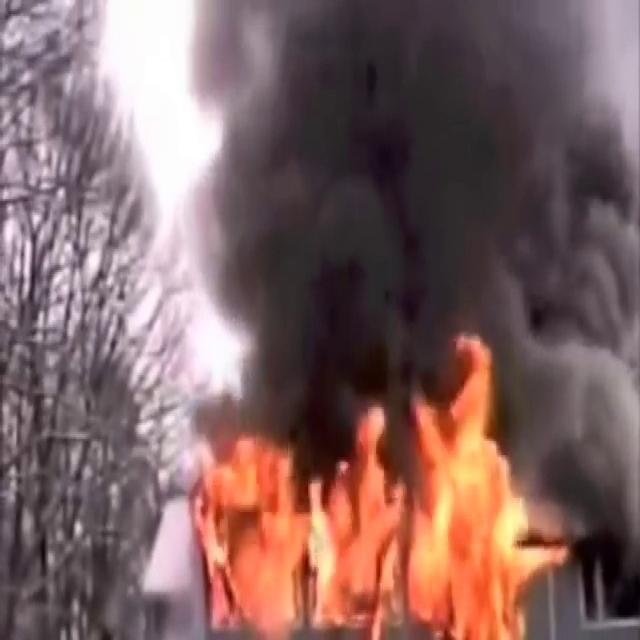Fire: (186, 348, 554, 638)
Smoke: (149, 0, 640, 448)
